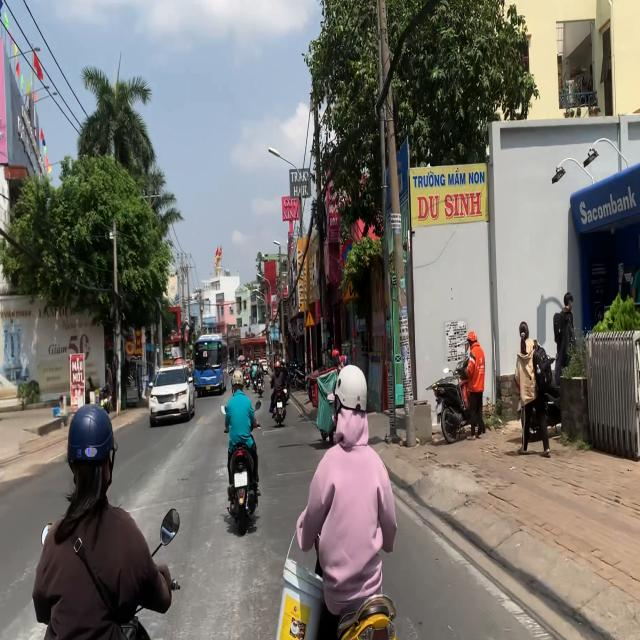Nguy hiem: (342, 276, 360, 301), (304, 309, 316, 328)
